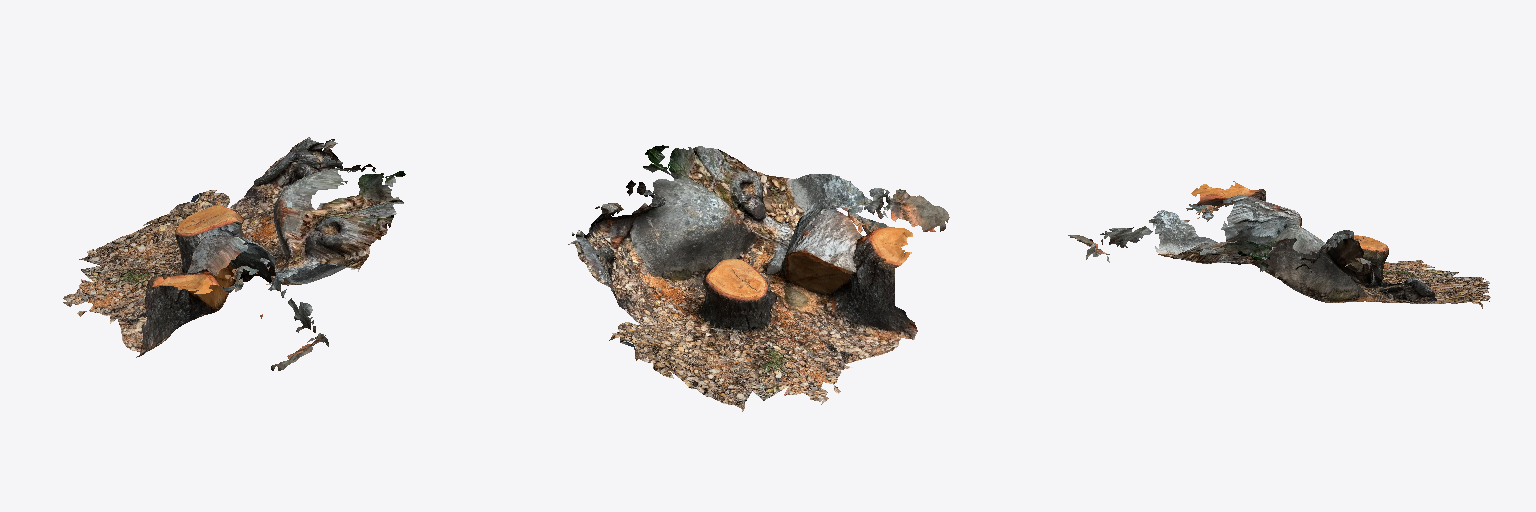
3 renders of one model, left to right at view 1: azimuth 30°, elevation 25°; view 2: azimuth 150°, elevation 25°; view 3: azimuth 270°, elevation 25°, orthographic.
Visible parts, largest first — view 1: mesh_0; view 2: mesh_0; view 3: mesh_0.
Boxes of the visible parts, x1,y1,x2,y2 form: mesh_0: [63, 137, 405, 370]; mesh_0: [568, 145, 949, 411]; mesh_0: [1068, 181, 1490, 308].
Size of the model in its own units: 1.85 by 0.8912 by 2.53.
1 materials, 1 textured.